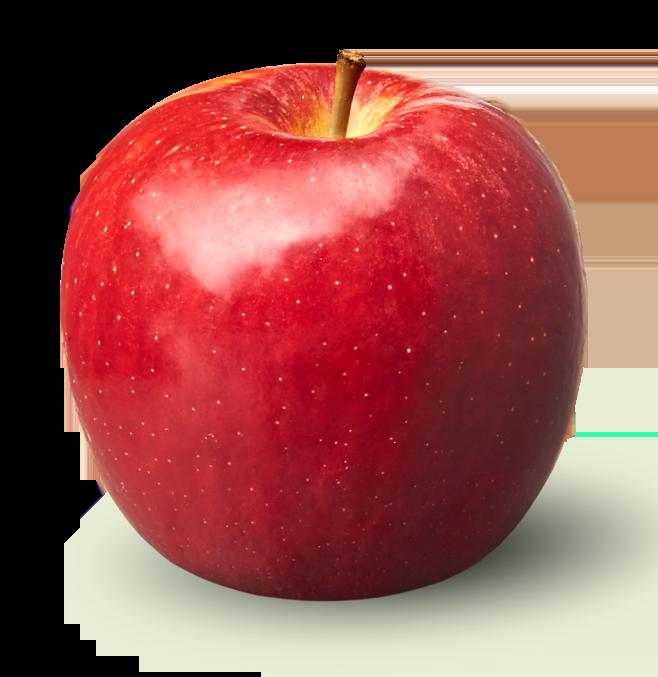apples: (59, 42, 604, 600)
